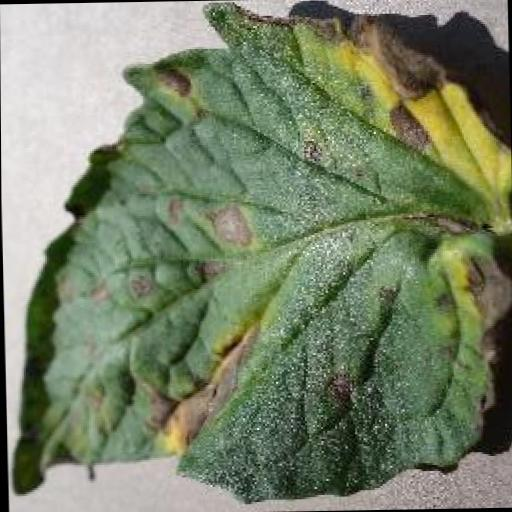Early Blight: (1, 0, 512, 502)
